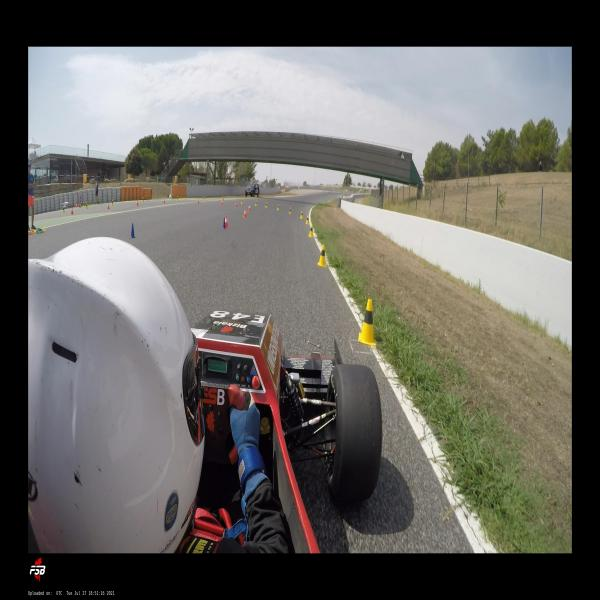orange_cone: (225, 215, 228, 228), (244, 209, 246, 218), (248, 205, 250, 212), (108, 202, 110, 209), (71, 207, 73, 214), (221, 199, 223, 205), (235, 202, 237, 207), (137, 199, 138, 206), (198, 198, 199, 204), (164, 198, 165, 204)
unknown_cone: (130, 223, 136, 238), (222, 217, 226, 229)
yellow_cone: (358, 298, 376, 346), (317, 244, 327, 267), (308, 224, 314, 237), (306, 215, 309, 224), (300, 211, 303, 219), (85, 203, 88, 209), (289, 208, 291, 215), (277, 204, 279, 211), (265, 202, 267, 208), (112, 200, 114, 206), (62, 207, 64, 213), (255, 201, 257, 206), (241, 199, 243, 204), (142, 197, 144, 202), (222, 198, 224, 202), (204, 196, 205, 201), (177, 196, 178, 201)
